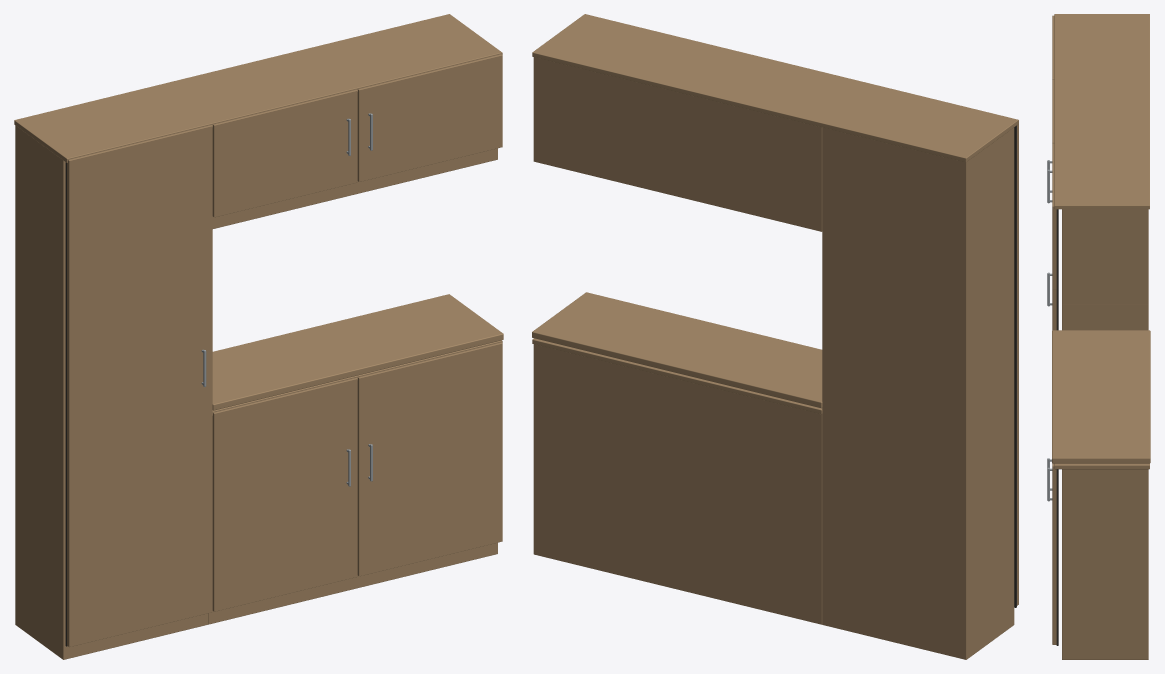
File: original-shoe-bridge.glb
3 views of the same model, side by side, from view 1: azimuth 30°, elevation 25°; view 2: azimuth 150°, elevation 25°; view 3: azimuth 270°, elevation 25° (orthographic). The views are drawn at different scales.
Visible parts, largest first — view 1: Cabinet carcass, Recessed plinth; view 2: Cabinet carcass, Recessed plinth; view 3: Cabinet carcass, Recessed plinth, Handle mounting foot.
Part boxes in pixels (x1,y1,x2,y2): Cabinet carcass: [14, 14, 503, 659]; Recessed plinth: [65, 162, 67, 646]; Cabinet carcass: [532, 14, 1018, 659]; Recessed plinth: [1014, 125, 1016, 607]; Cabinet carcass: [1052, 14, 1150, 659]; Recessed plinth: [1056, 209, 1058, 645]; Handle mounting foot: [1047, 160, 1052, 501].
Size of the model in its own units: 1.8 by 2 by 0.41.
